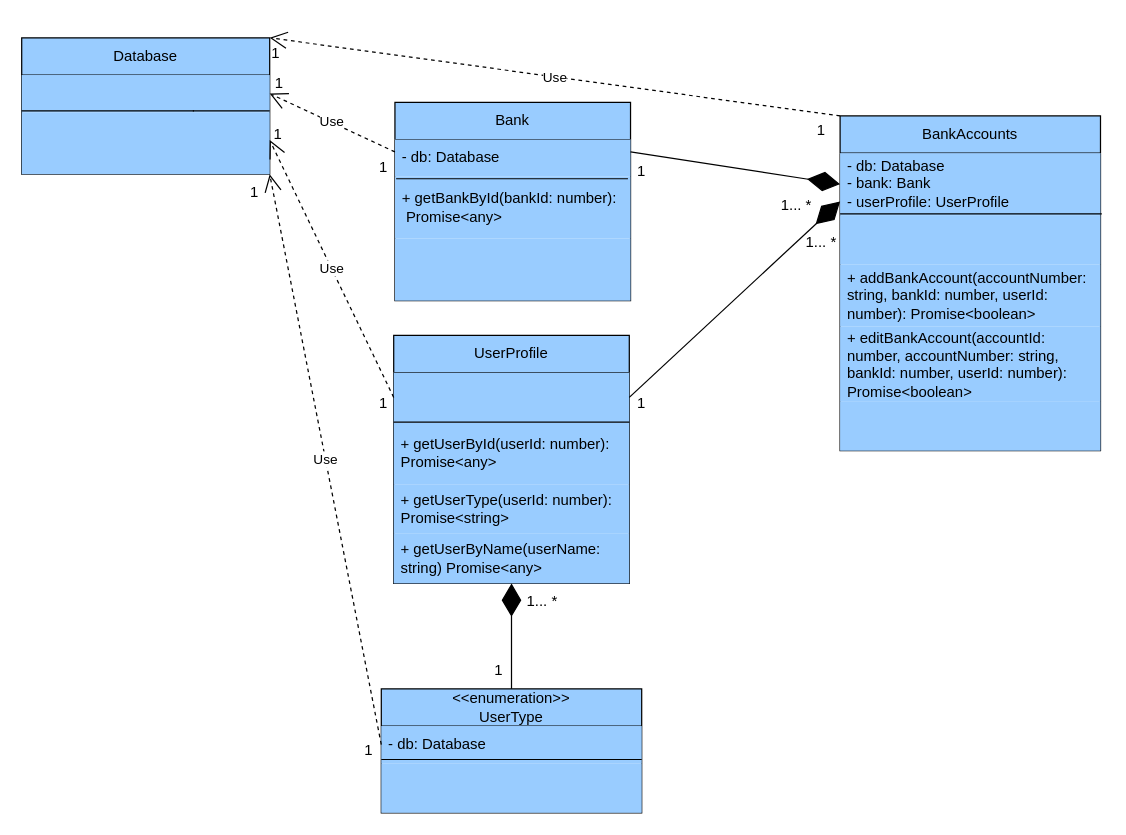
The diagram is 1126 pixels wide and 835 high, and some of its shapes have lost their labels. The shapes that lost their labels are listed below. From the top down, each one's centre as x and y in pixels, then its label:
(x=145, y=93): - pool: Pool
(x=145, y=143): + query(sql: string, params: any[]): Promise <any[]>
(x=969, y=239): + getBankAccountsWithDetails(): Promise<any[]>
(x=512, y=269): + getBankByName(bankName: string) Promise<any>
(x=511, y=397): - db: Database - userType: UserType
(x=969, y=425): + deleteBankAccount(accountId: number): Promise <boolean>
(x=511, y=787): + getUserTypeById(typeId: number): Promise<any>
